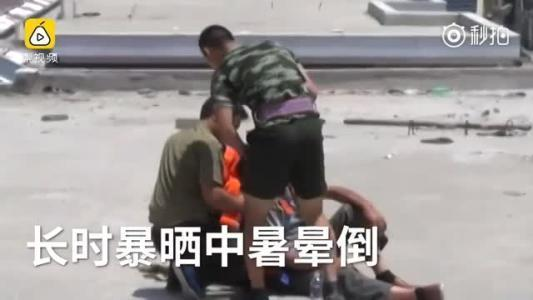Fall-Detected: (235, 164, 461, 298)
